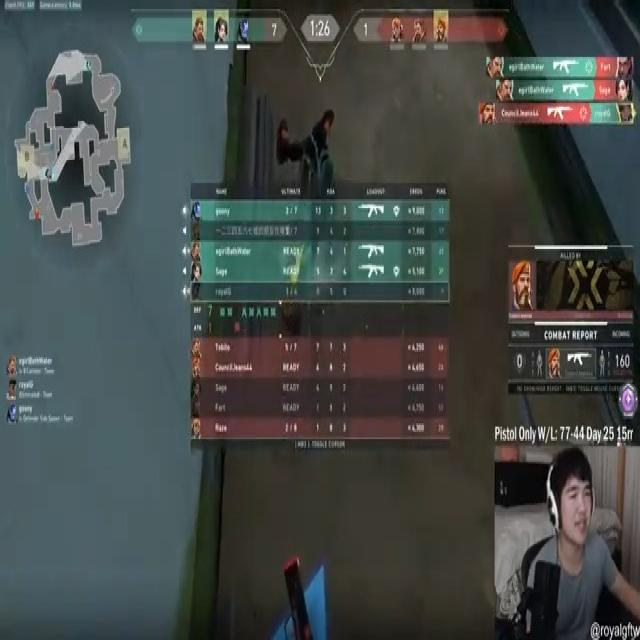gun: (273, 553, 318, 640)
